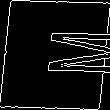M_W: (5, 30, 105, 80)
